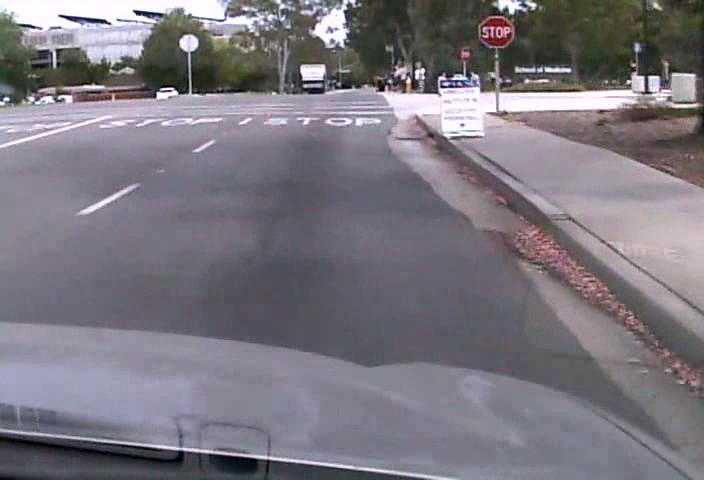stop: (478, 15, 514, 49)
